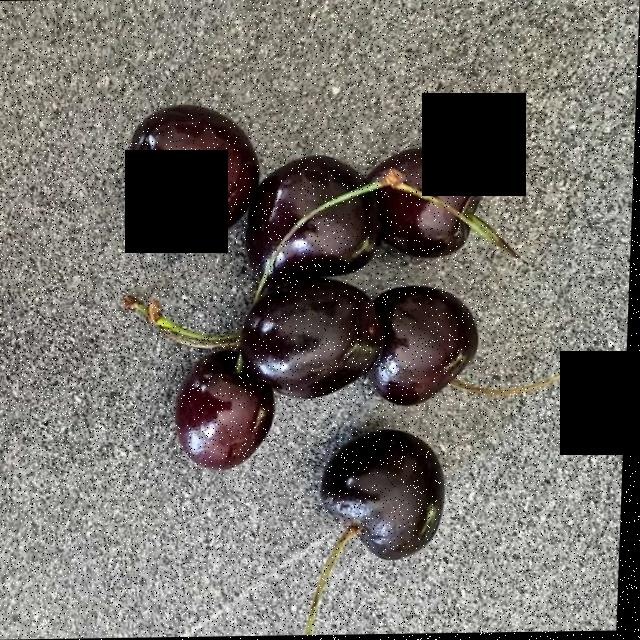cherries: (131, 109, 487, 556)
